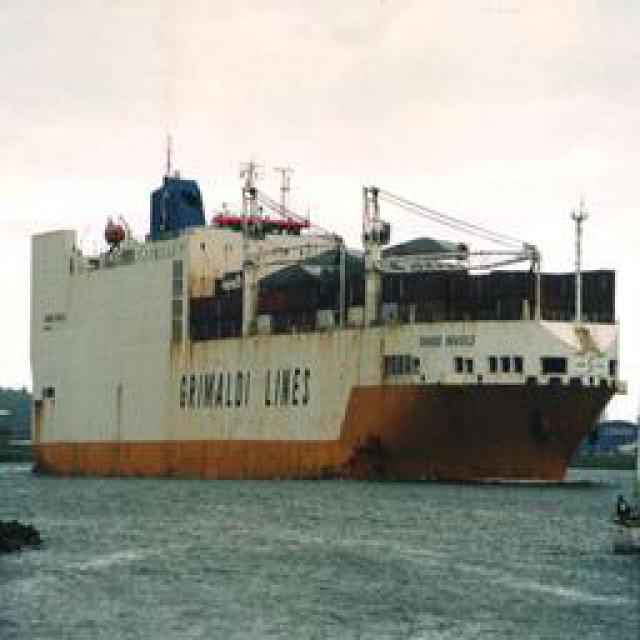Ship: (23, 174, 631, 487)
